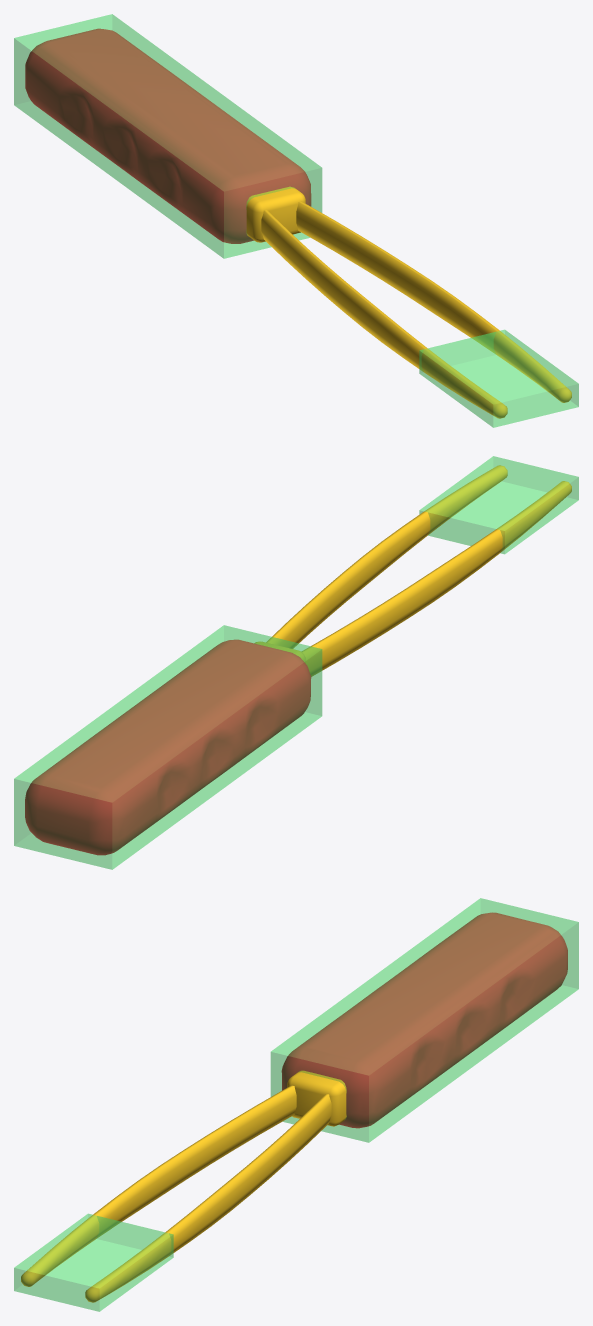
The model's file is Pince.fbx.
The picture shows the model from 3 angles, top to bottom: view 1: azimuth 30°, elevation 25°; view 2: azimuth 150°, elevation 25°; view 3: azimuth 330°, elevation 25°; orthographic projection.
Visible parts, largest first — view 1: COL_Pince_Manche, Pince_Corps, COL_Pince_Pointe, Pince_BrancheGauche, Pince_BrancheDroite; view 2: COL_Pince_Manche, Pince_Corps, COL_Pince_Pointe, Pince_BrancheDroite, Pince_BrancheGauche; view 3: COL_Pince_Manche, Pince_Corps, COL_Pince_Pointe, Pince_BrancheDroite, Pince_BrancheGauche.
Part boxes in pixels (x1,y1,x2,y2): COL_Pince_Manche: (14,14,322,258); Pince_Corps: (25,28,311,243); COL_Pince_Pointe: (419,329,578,427); Pince_BrancheGauche: (296,201,571,402); Pince_BrancheDroite: (261,210,507,418); COL_Pince_Manche: (14,625,322,869); Pince_Corps: (25,639,311,855); COL_Pince_Pointe: (419,456,578,554); Pince_BrancheDroite: (301,481,571,676); Pince_BrancheGauche: (266,465,507,648); COL_Pince_Manche: (270,898,578,1142); Pince_Corps: (281,912,567,1128); COL_Pince_Pointe: (14,1213,173,1311); Pince_BrancheDroite: (21,1085,296,1286); Pince_BrancheGauche: (85,1094,331,1302).
Bounding box in the file's own units: 0.023 × 0.015 × 0.1915.
